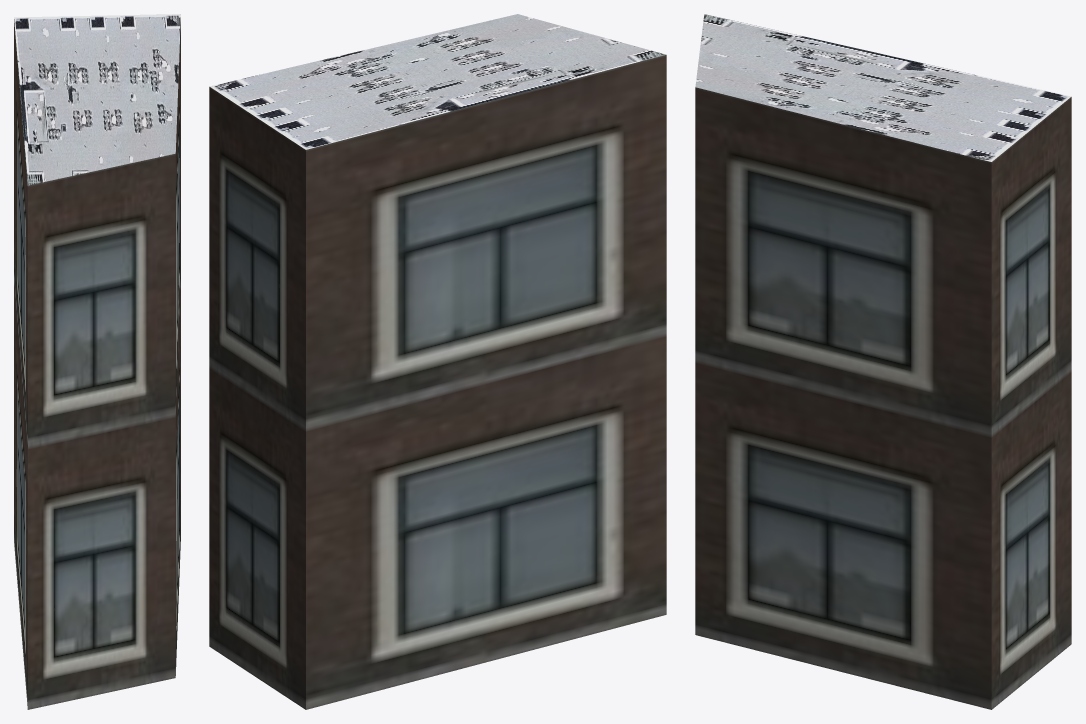
File: ResTex__2861.fbx
3 renders of one model, left to right at view 1: azimuth 30°, elevation 25°; view 2: azimuth 150°, elevation 25°; view 3: azimuth 270°, elevation 25°, orthographic. The views are drawn at different scales.
Visible parts, largest first — view 1: CityEngineMaterial_16_m, CityEngineMaterial_15_m; view 2: CityEngineMaterial_16_m, CityEngineMaterial_15_m; view 3: CityEngineMaterial_16_m, CityEngineMaterial_15_m.
Part boxes in pixels (x1,y1,x2,y2): CityEngineMaterial_16_m: (14,17,180,709); CityEngineMaterial_15_m: (14,14,180,185); CityEngineMaterial_16_m: (209,55,666,709); CityEngineMaterial_15_m: (209,14,665,149); CityEngineMaterial_16_m: (695,87,1071,709); CityEngineMaterial_15_m: (695,14,1071,161).
Size of the model in its own units: 3.48 by 6 by 3.73.
2 materials, 2 textured.
